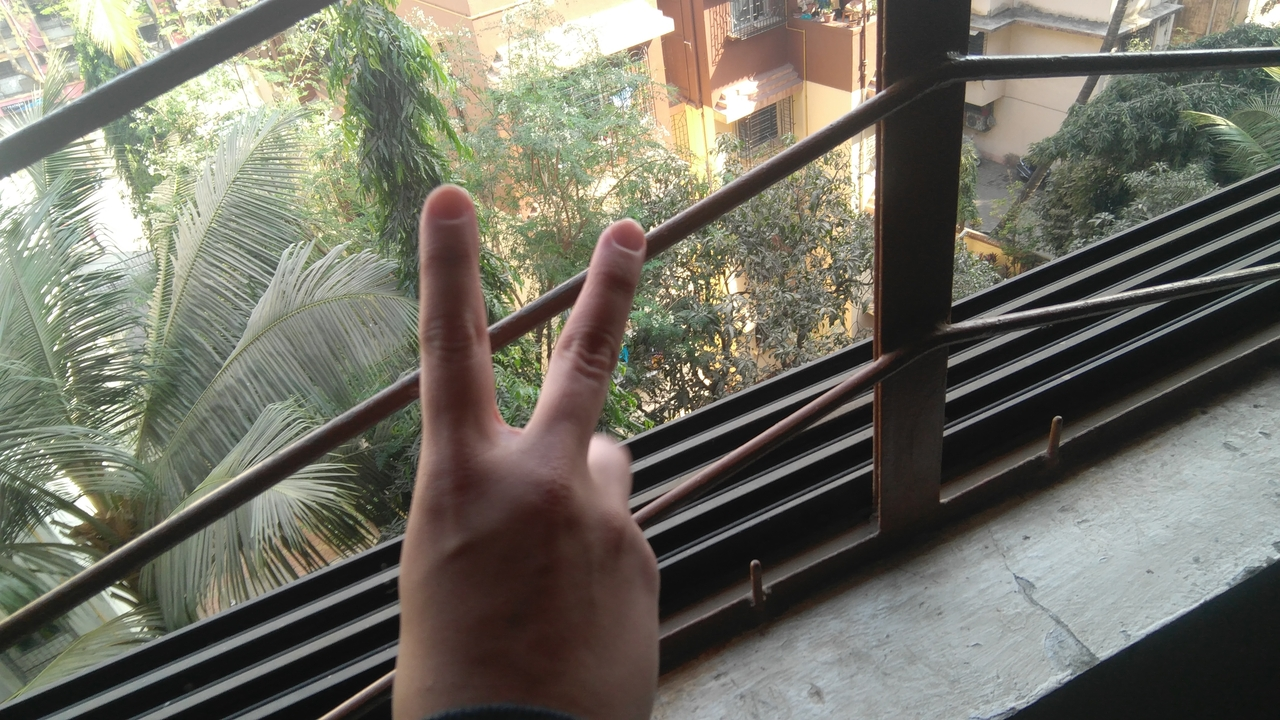fingertip: (586, 214, 657, 272), (416, 176, 474, 238)
